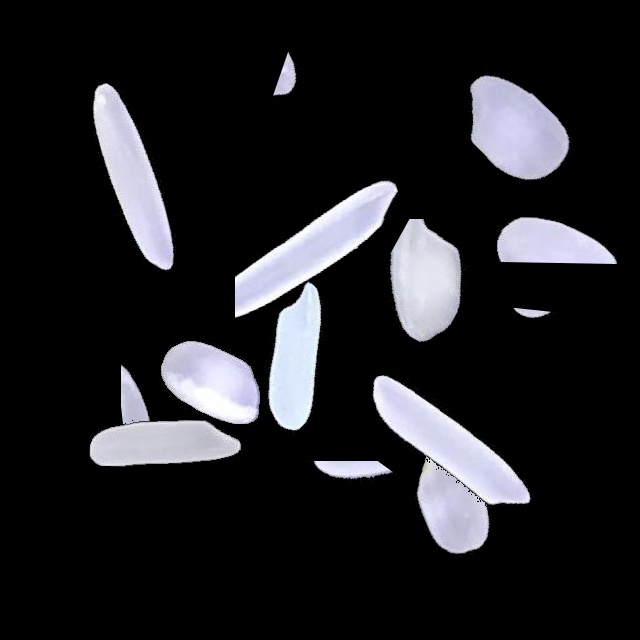Broken: (235, 165, 403, 415), (332, 219, 582, 382), (494, 72, 625, 322), (121, 277, 237, 527), (238, 461, 488, 548), (6, 73, 256, 159), (197, 39, 447, 125), (499, 228, 583, 478)
Full: (84, 258, 334, 508), (173, 233, 423, 483), (330, 377, 580, 627), (39, 317, 289, 567), (389, 3, 639, 253), (324, 316, 574, 566), (11, 51, 261, 301)
